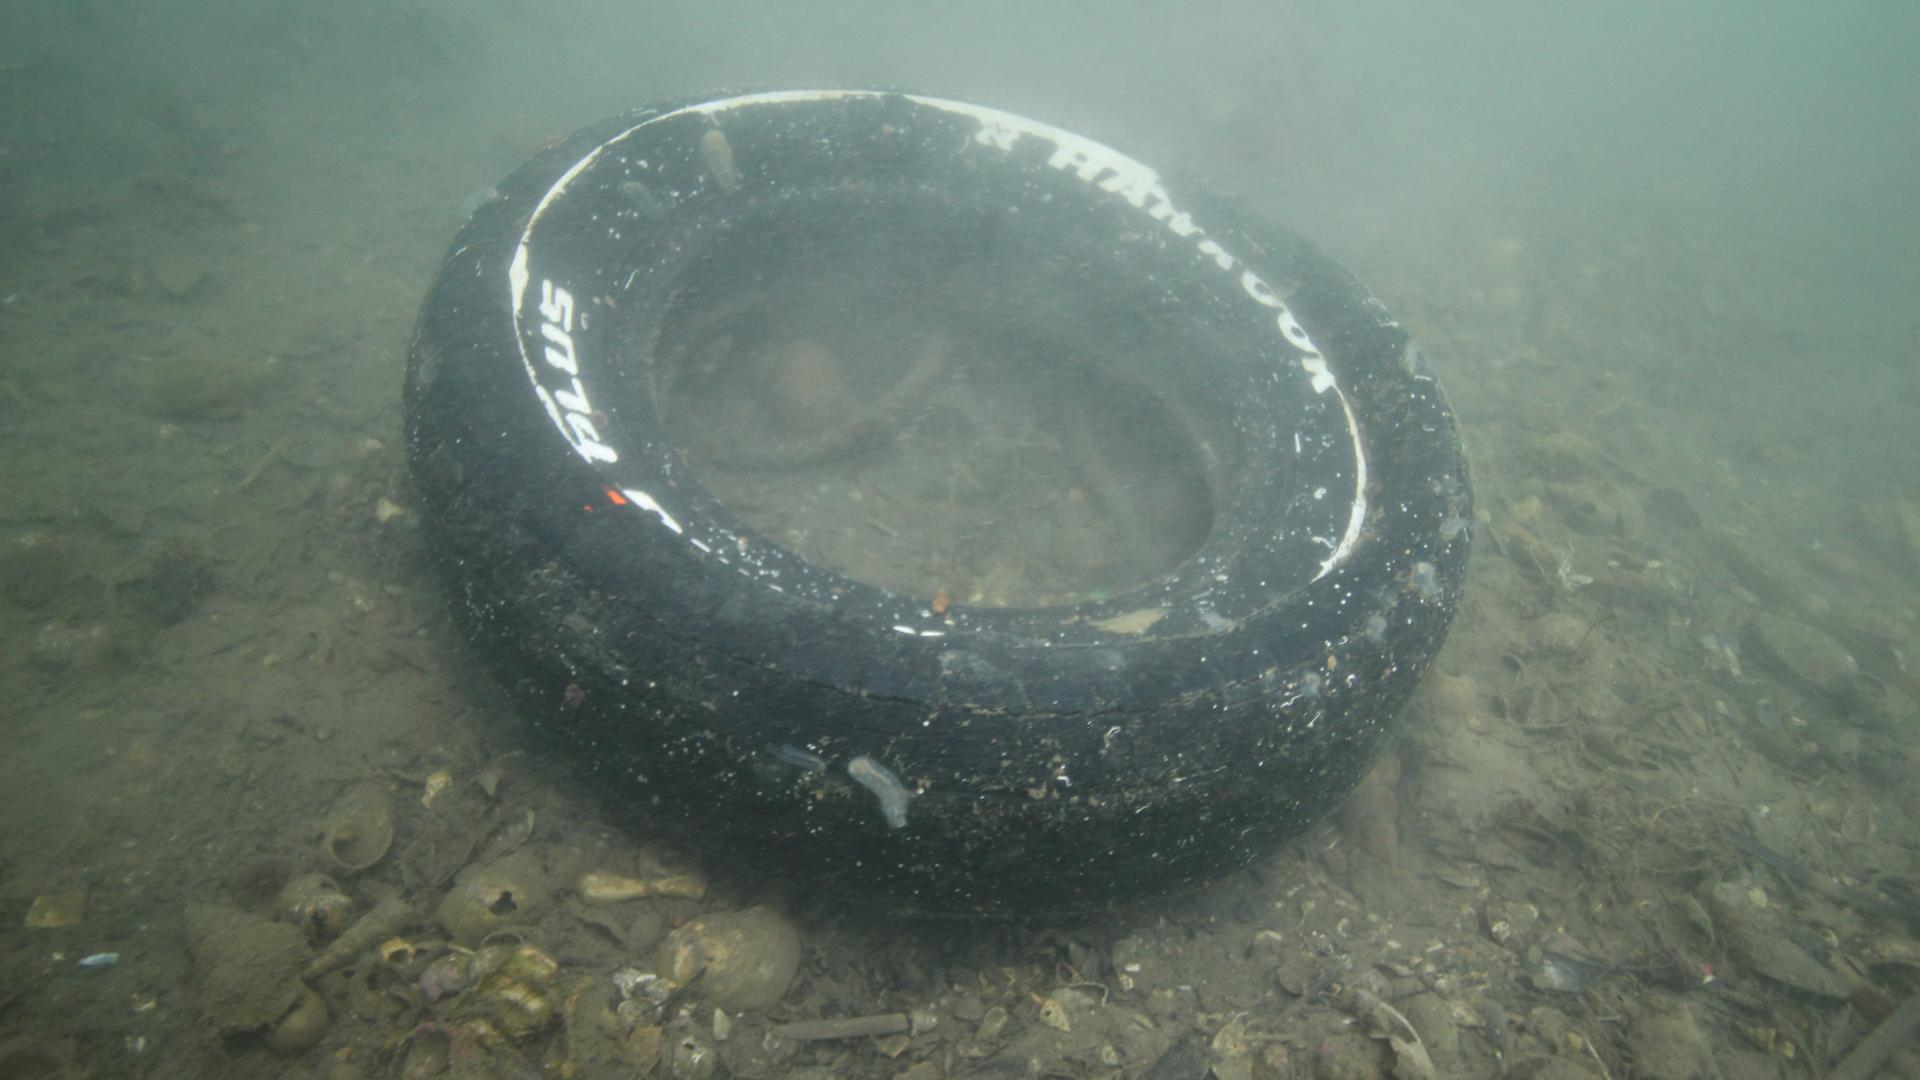tire: (400, 80, 1470, 926)
